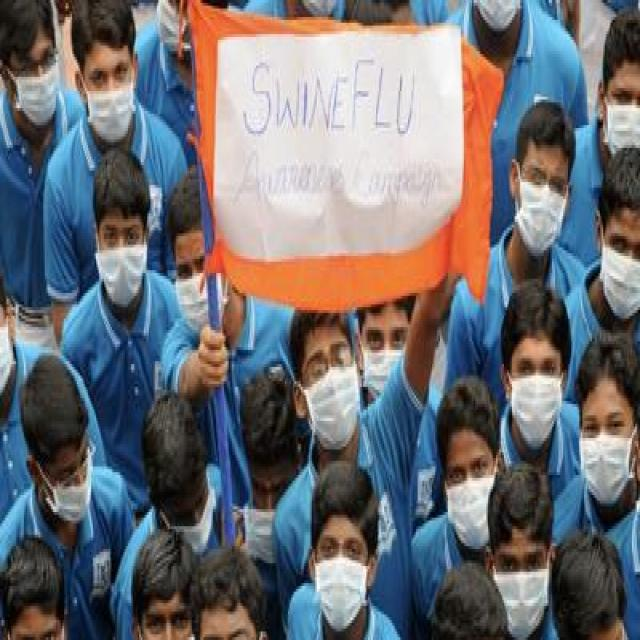with_mask: (304, 337, 360, 451), (576, 402, 635, 507), (175, 243, 230, 348), (94, 217, 150, 314), (494, 542, 550, 638), (315, 525, 366, 630), (446, 445, 495, 550), (511, 348, 561, 450), (517, 155, 568, 254), (359, 317, 409, 411), (84, 53, 137, 141), (43, 439, 92, 527), (598, 223, 639, 319), (12, 41, 57, 126), (166, 482, 215, 559), (603, 78, 640, 155)
